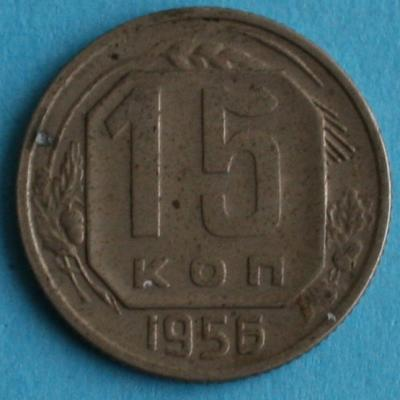numismatics: (17, 8, 391, 381)
